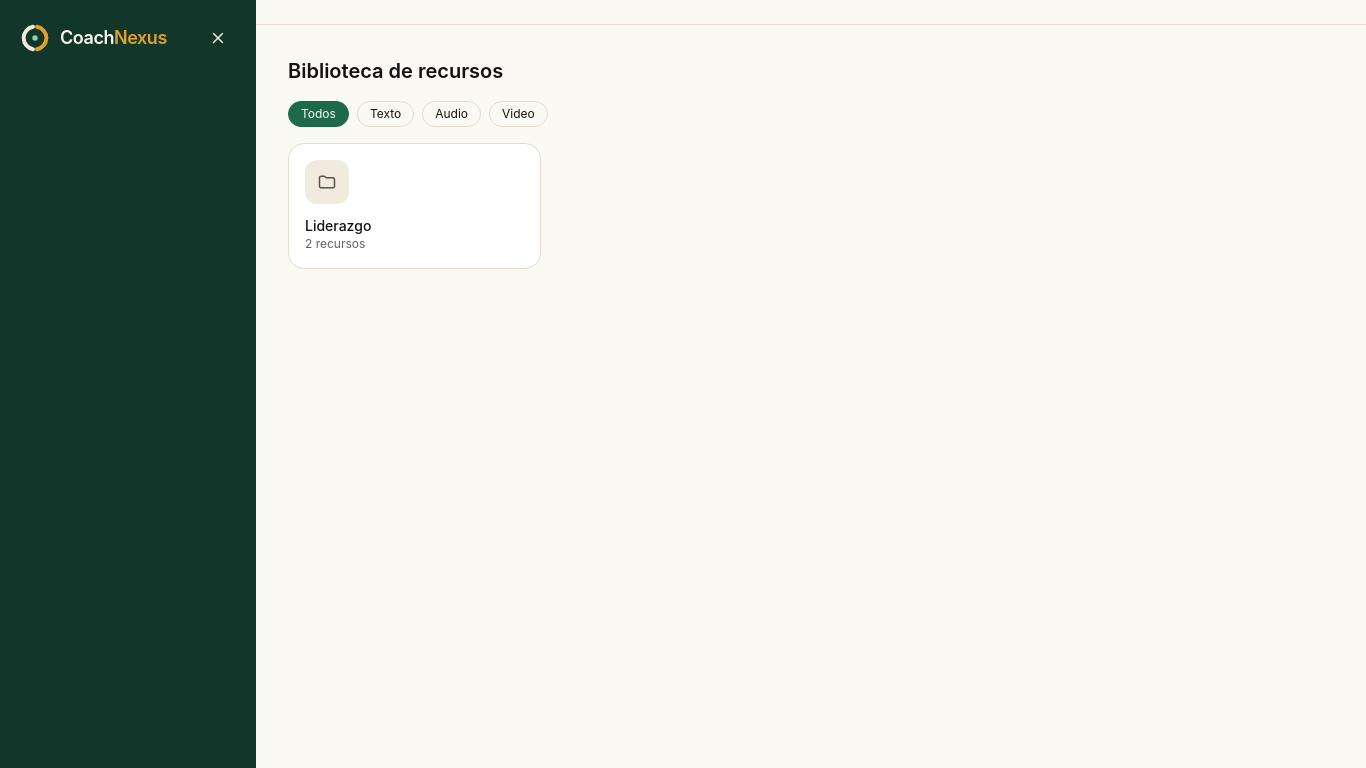
it: BibliotecaView › opens a resource and loads its aprendizajes
Step 1. Click the button "Liderazgo 2 recursos" → (414, 206), box top-left (288, 143), bottom-right (540, 269)
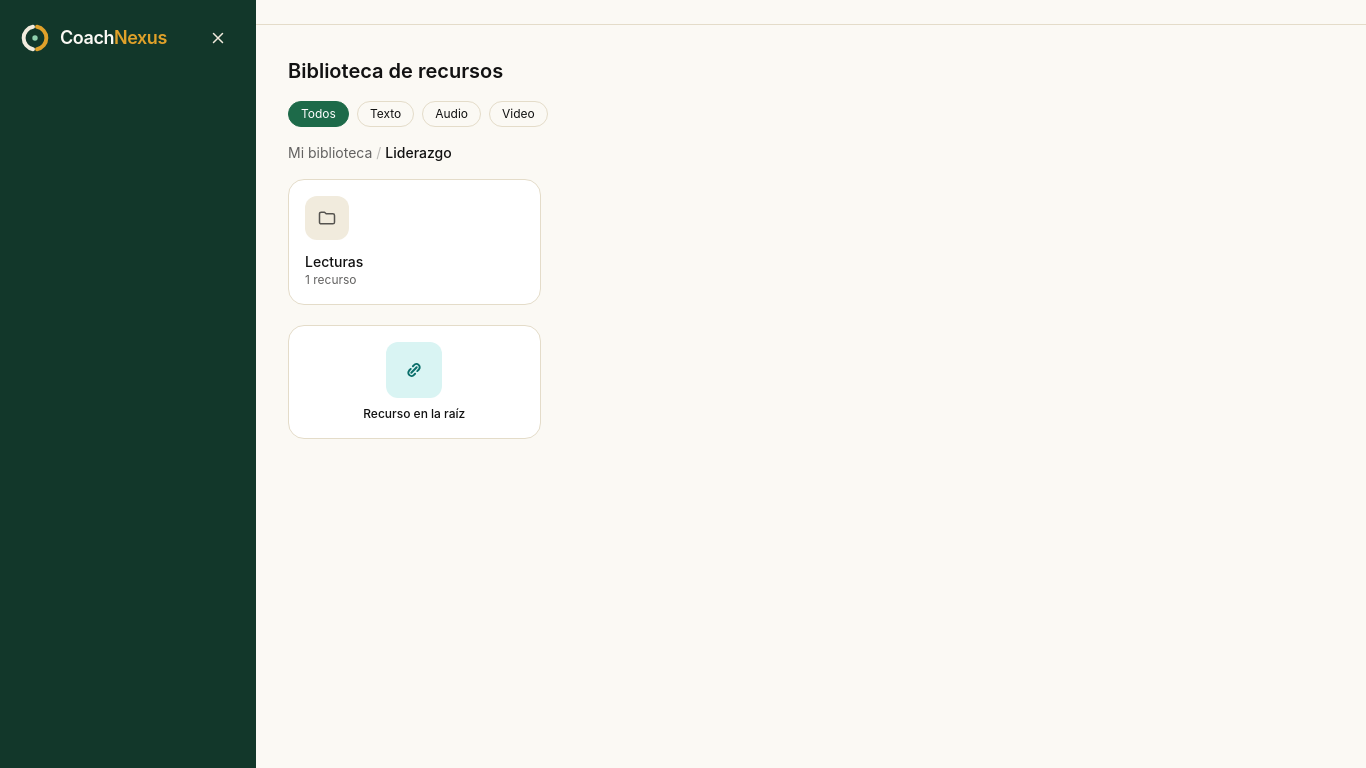
Step 2. Click the button "Recurso en la raíz" → (414, 382), box top-left (288, 325), bottom-right (540, 439)
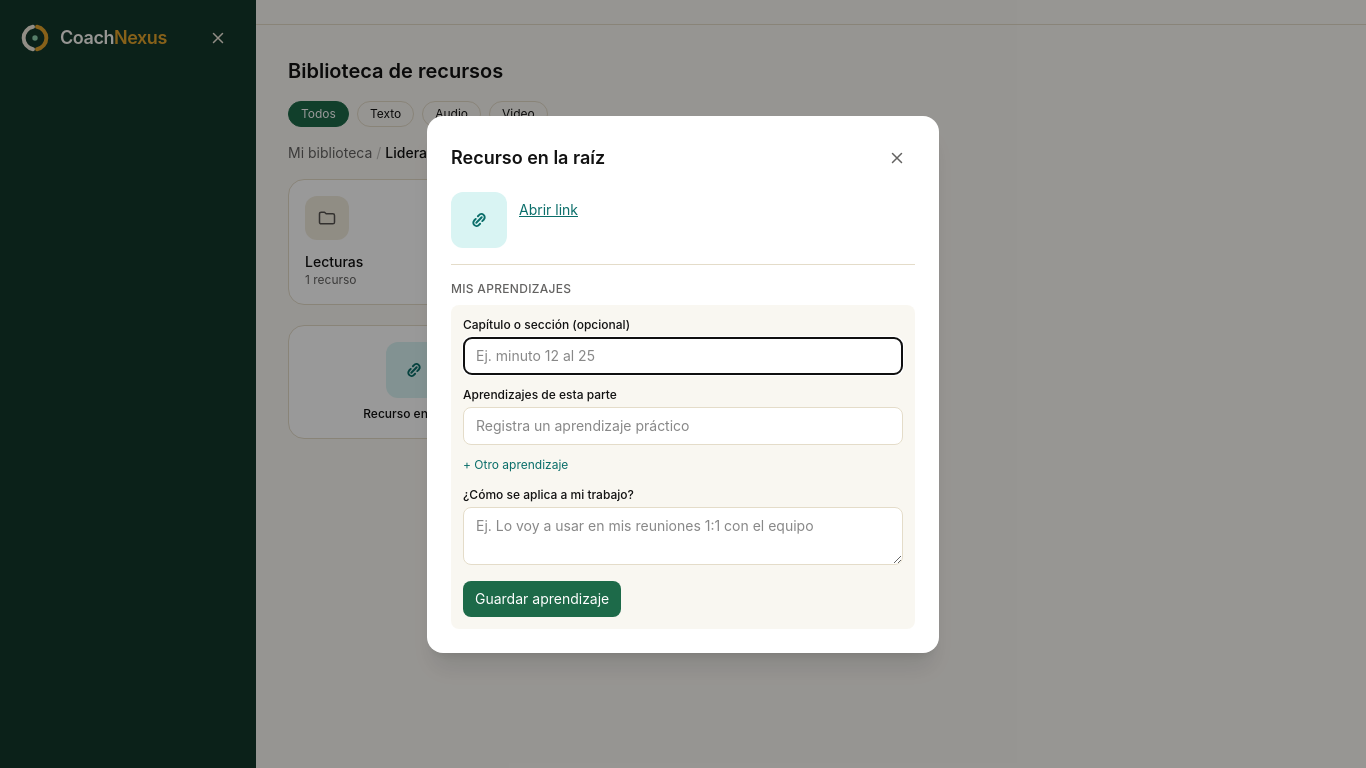
Expected: the text "Mis aprendizajes" is shown, top-left (451, 280), bottom-right (571, 296)
